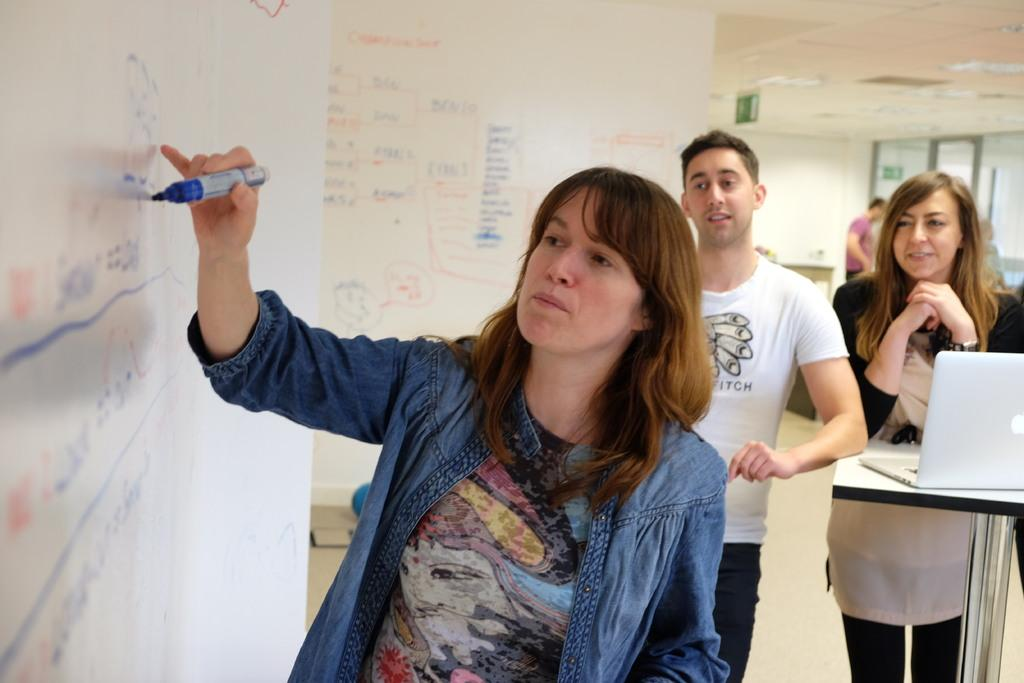Laptop: (857, 350, 1023, 491)
